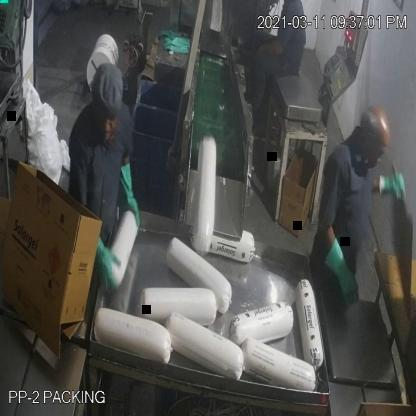glove: (114, 152, 150, 238), (323, 231, 360, 308), (377, 163, 406, 210)
